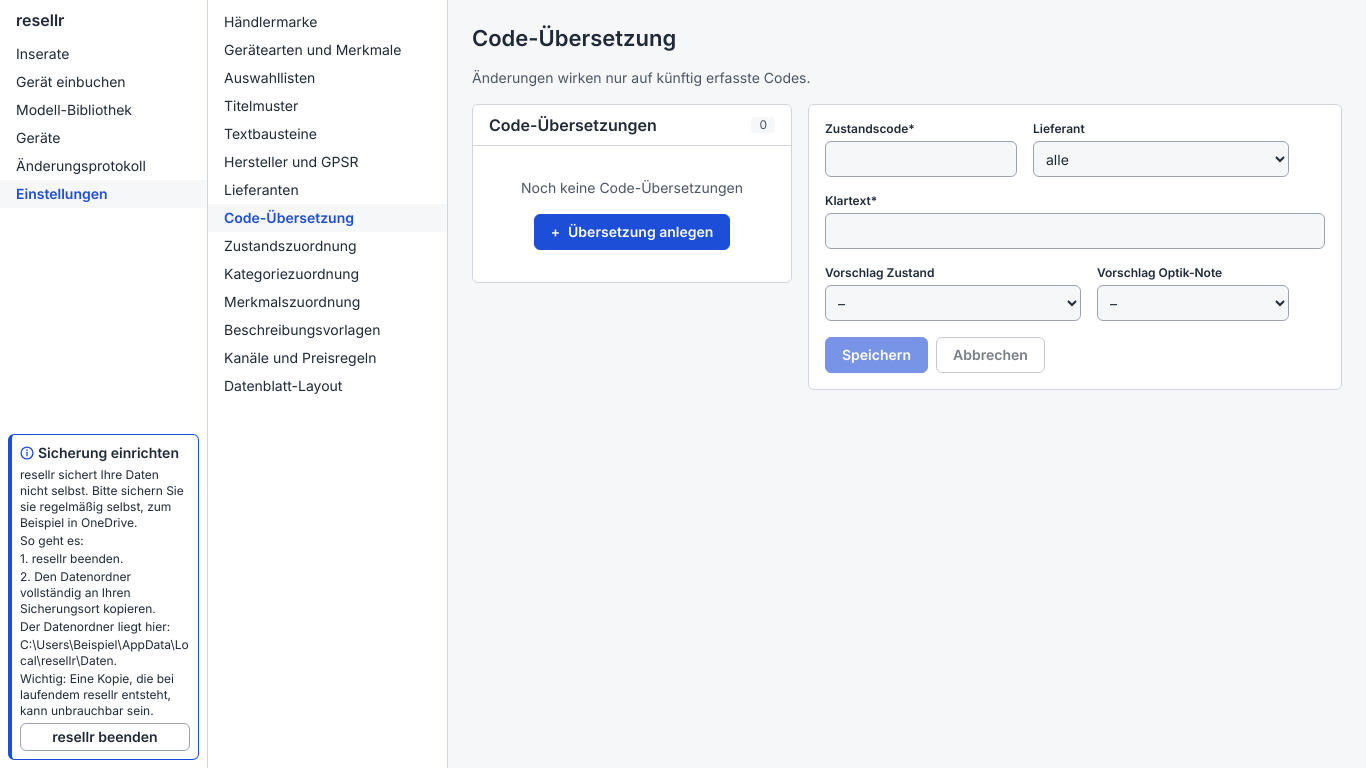
Test case: UI-033 condition codes (CU-100) › UI-033.empty DER-38-02 shows "Noch keine Code-Übersetzungen" in the list area with the primary button "Übersetzung anlegen" below it
The image size is (1366, 768).
expect the dropdown labelled "Lieferant" is shown: met, box [1033,141,1289,177]
expect the dropdown labelled "Vorschlag Zustand" is shown: met, box [825,285,1081,321]
Click the button "+ Übersetzung anlegen" at coordinates (632, 232), box [534,214,730,250]
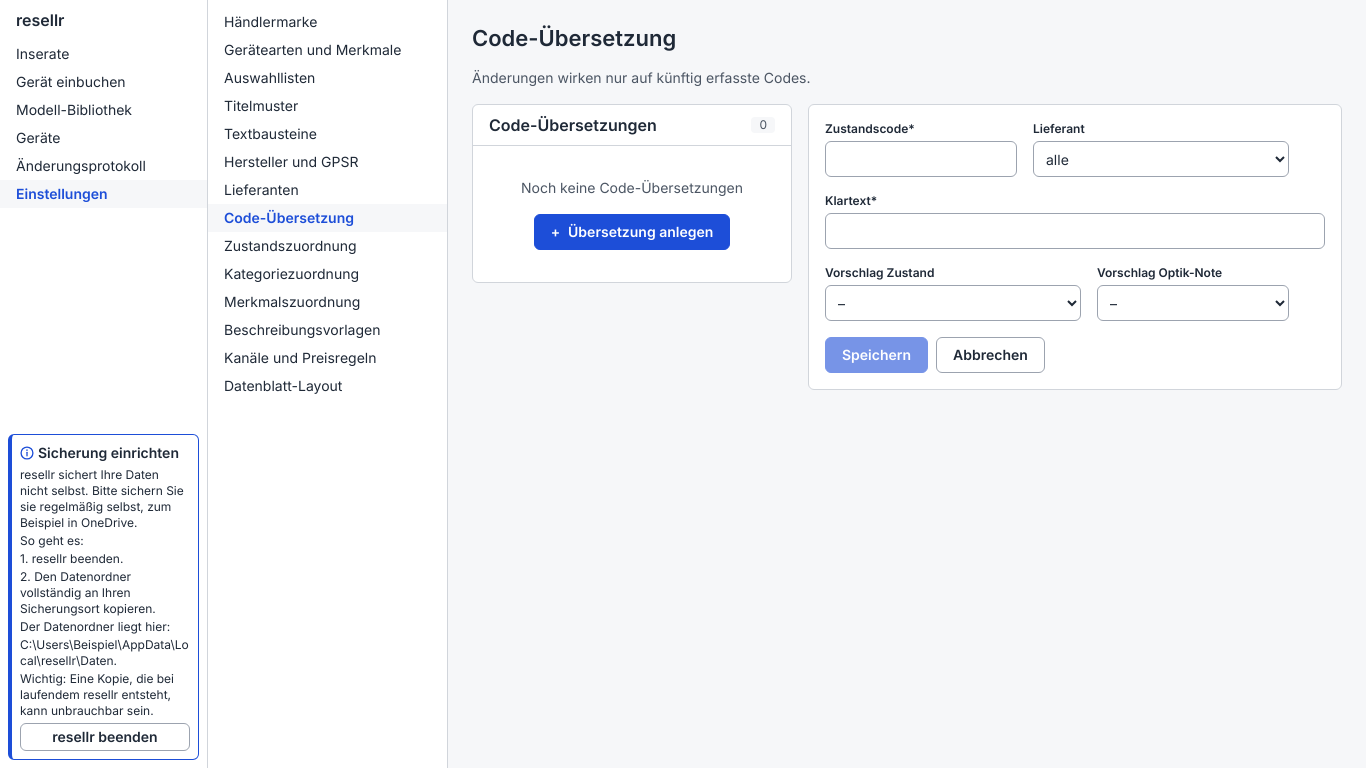
Type "DGS" into the field labelled "Zustandscode*" at coordinates (921, 159), box [825,141,1017,177]
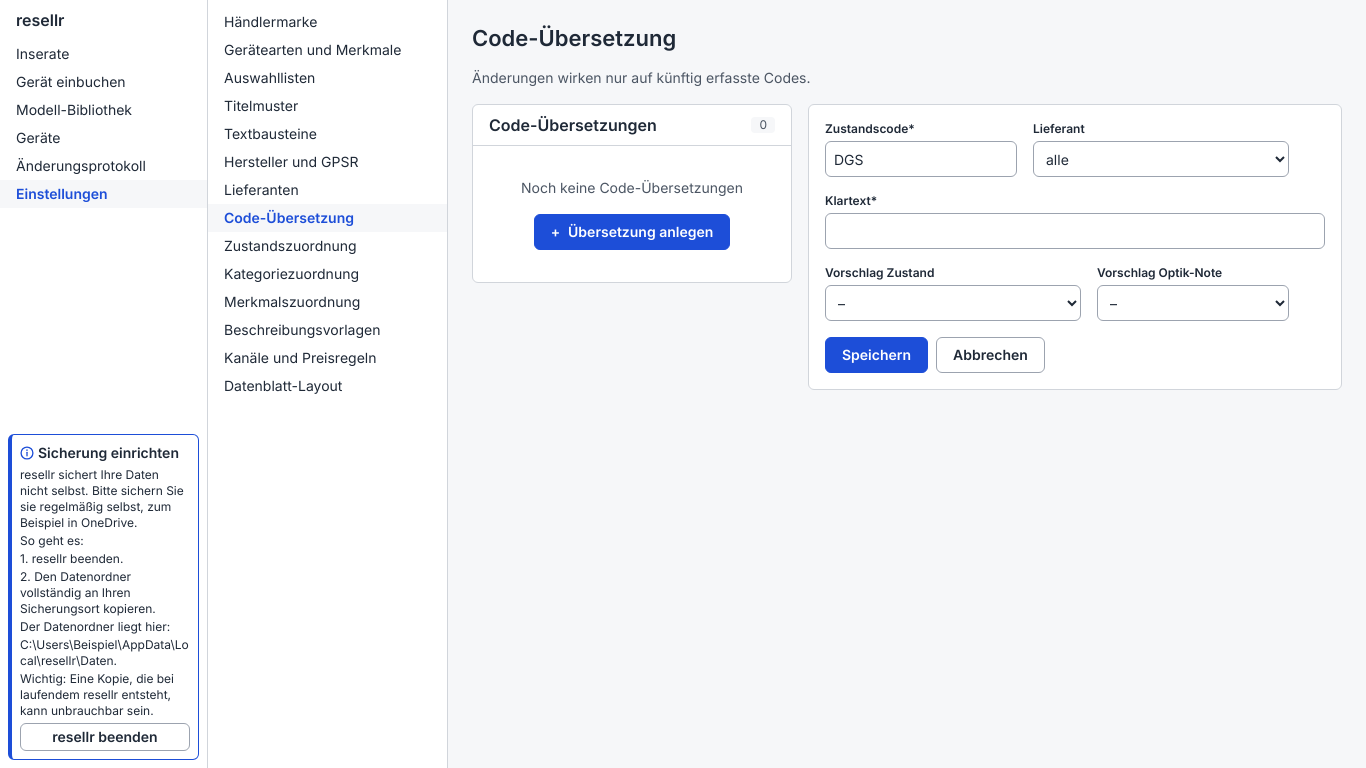
Type "Gebrauchsspuren am Gehäuse" into the field labelled "Klartext*" at coordinates (1075, 231), box [825,213,1325,249]
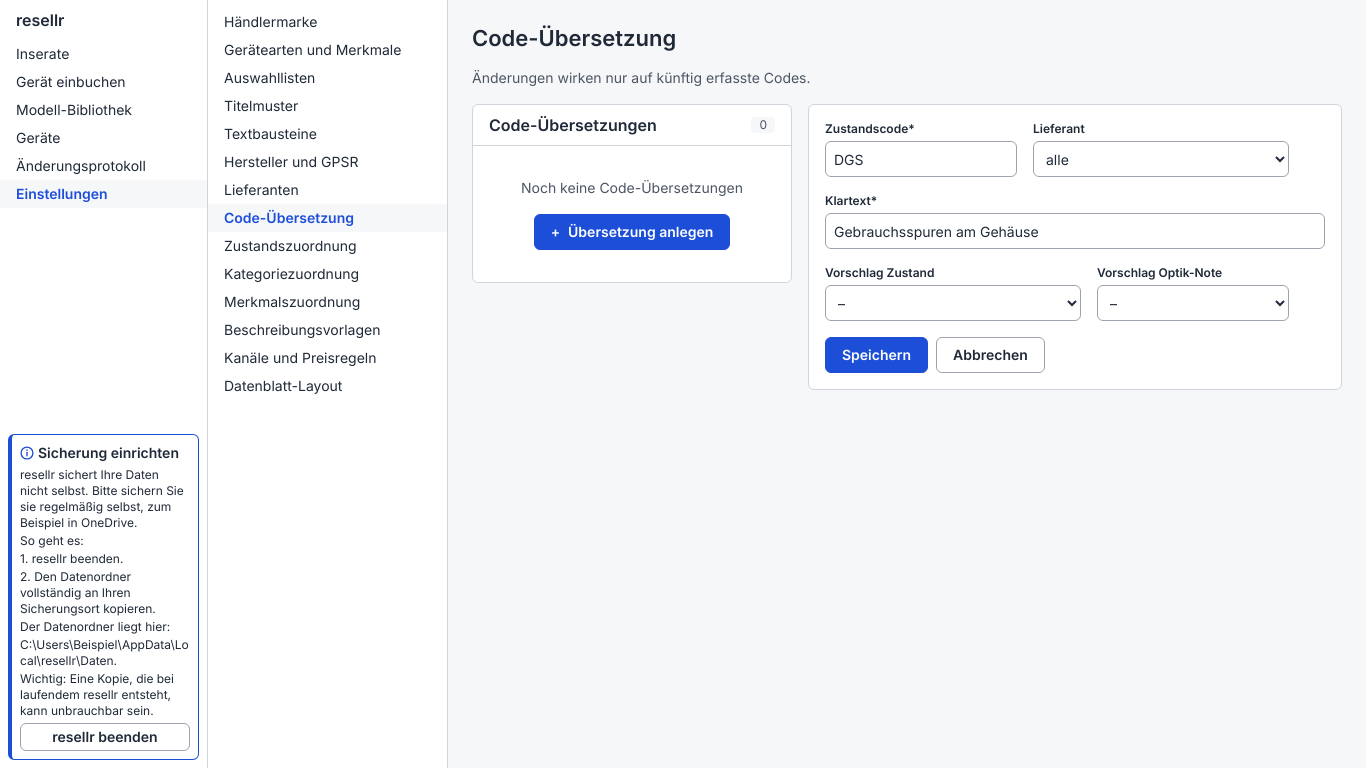
Click the button "Speichern" at coordinates (877, 355), box [825,337,928,373]
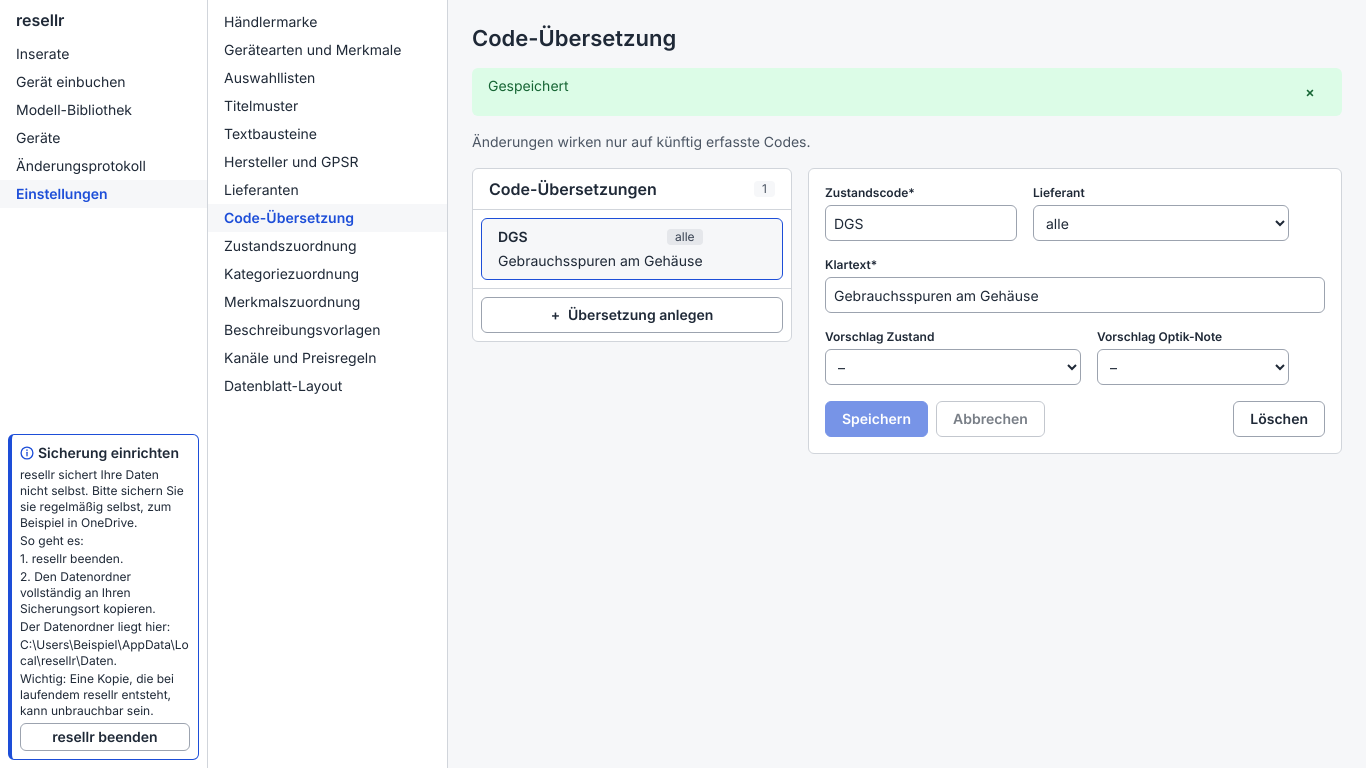
expect the text "Gespeichert" is shown: met, box [488,77,569,94]
expect the text "Noch keine Code-Übersetzungen" is gone: met
